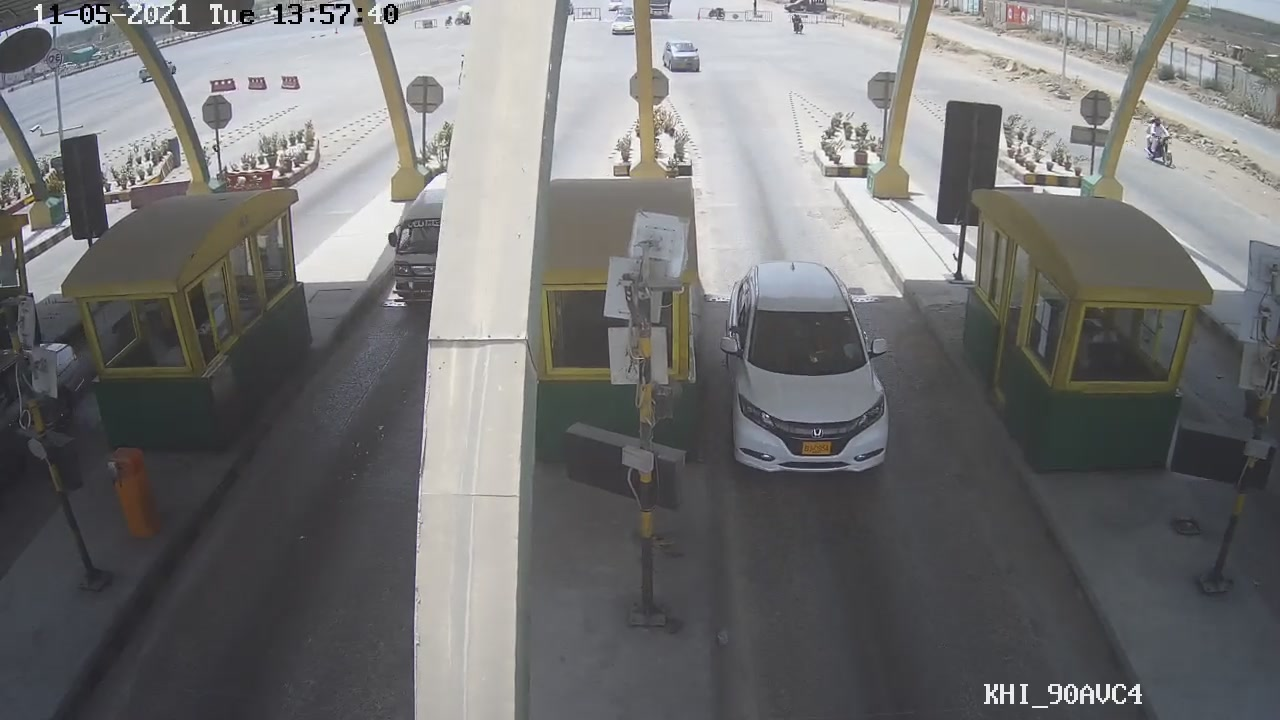F1: (715, 259, 905, 485)
